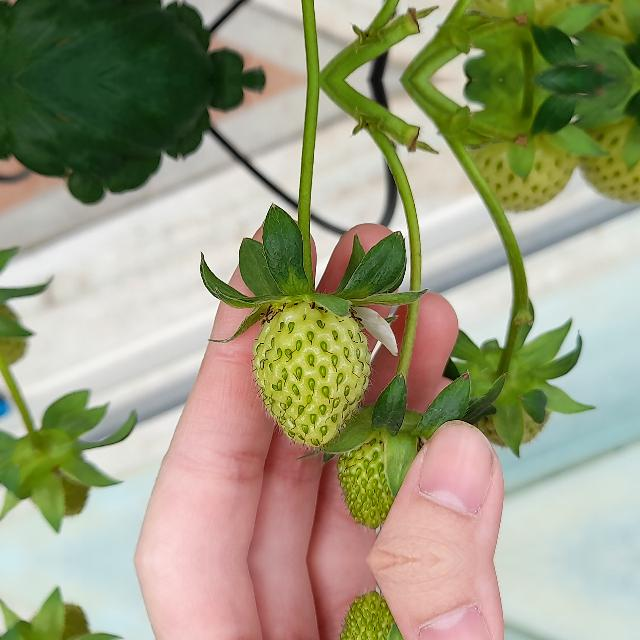Health_25: (252, 302, 370, 448), (338, 413, 438, 535), (338, 585, 437, 640)
